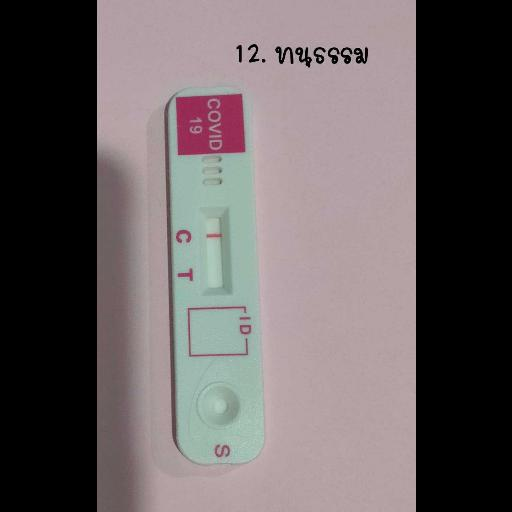Neg: (164, 91, 258, 463)
